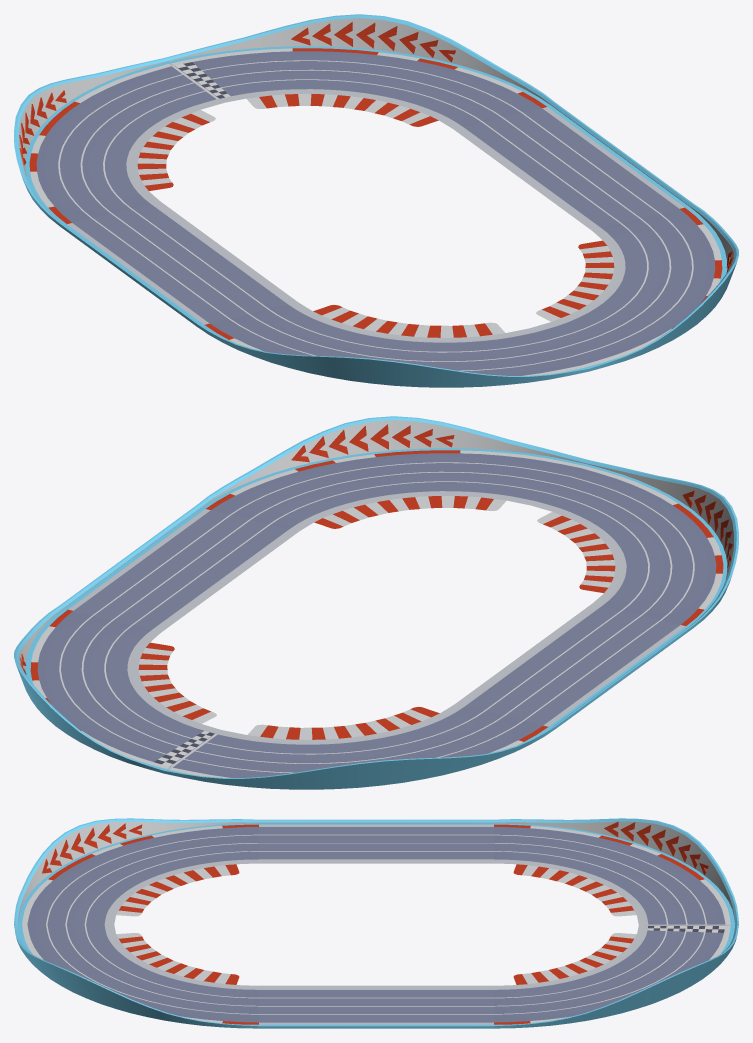
File: RaceTrack.FBX
3 renders of one model, top to bottom at view 1: azimuth 30°, elevation 25°; view 2: azimuth 150°, elevation 25°; view 3: azimuth 270°, elevation 25°, orthographic. The views are drawn at different scales.
Visible parts, largest first — view 1: RaceTrack; view 2: RaceTrack; view 3: RaceTrack.
Part boxes in pixels (bbox=[...]): RaceTrack: bbox=[14, 14, 738, 387]; RaceTrack: bbox=[14, 416, 738, 789]; RaceTrack: bbox=[14, 818, 738, 1028].
Size of the model in its own units: 7965 by 438 by 11815.
